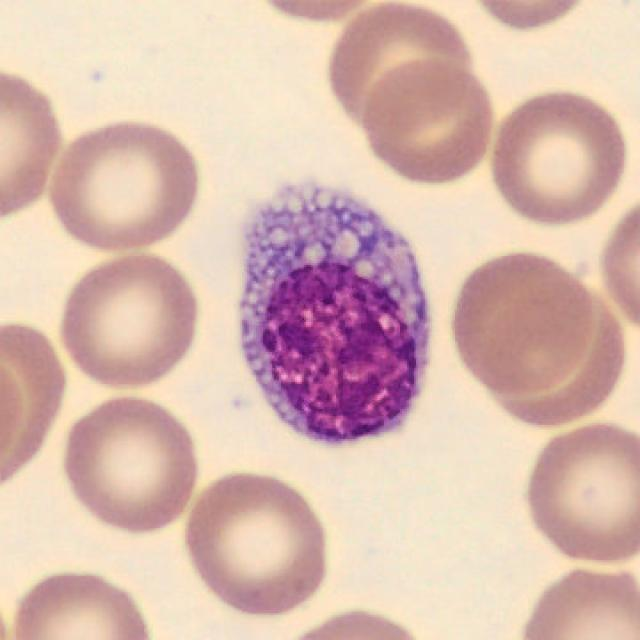Linfocito atipico: (242, 187, 427, 441)
